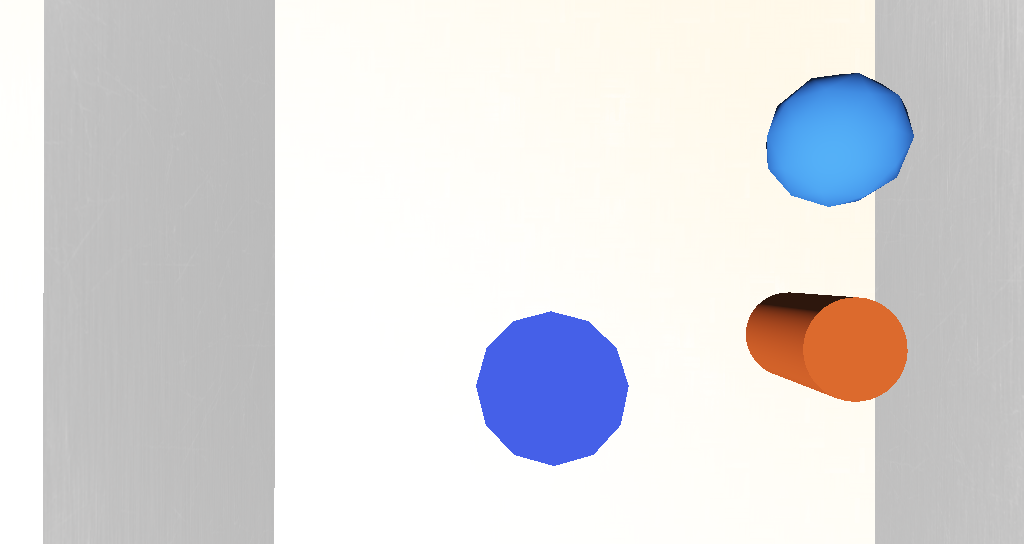cone: (593, 279, 647, 313)
cylinder: (461, 282, 522, 339)
sphere: (593, 203, 660, 246)
